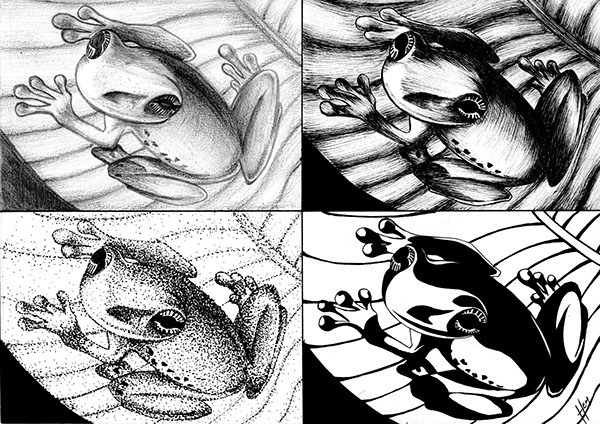bird: (26, 3, 314, 232)
